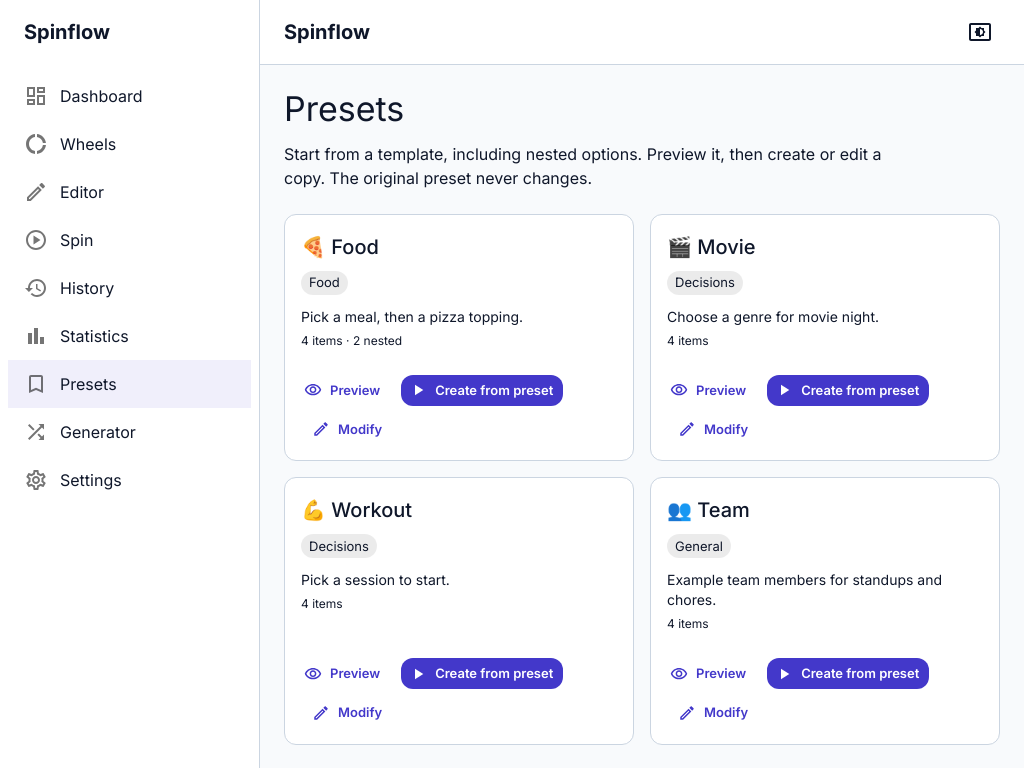
PresetsScreen › lists built-in presets and previews hierarchical food options
The width and height of the screenshot is (1024, 768).
Expected: the heading "Presets" is shown, [284,88,404,129]
Expected: the text "Start from a template, including nested options. Preview it, then create or edit a copy. The original preset never chang" is shown, [284,144,882,188]
Click the button with aria-label "Preview Food". click: point(343, 390)
box: [301,375,385,406]
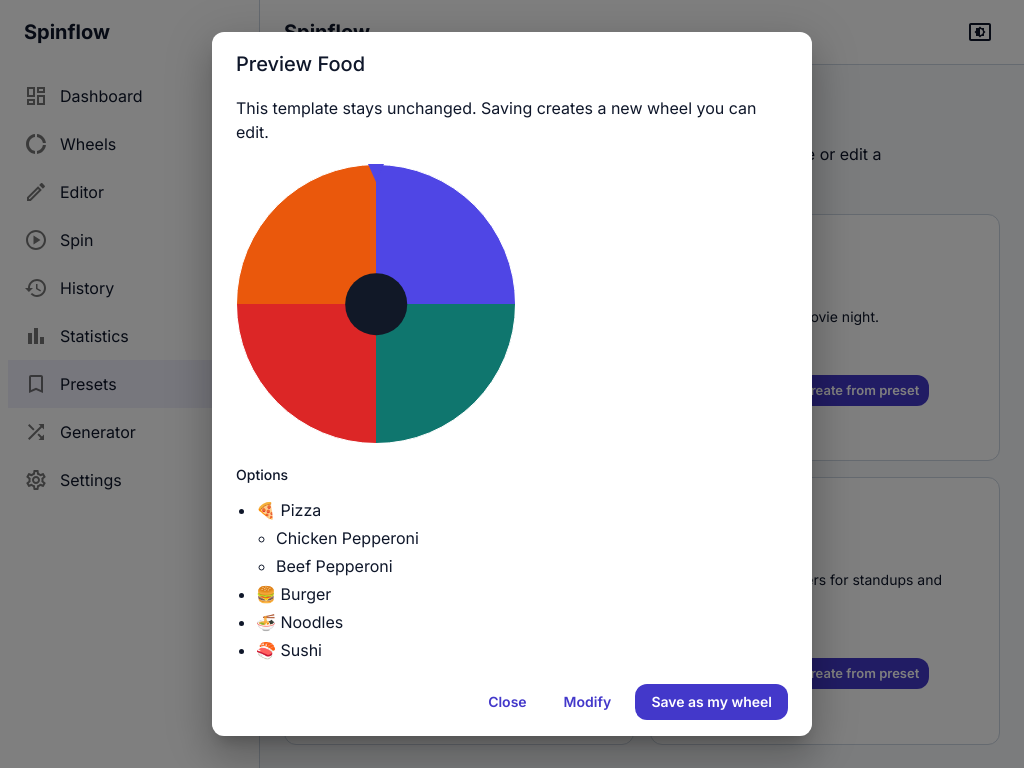
Result: the list item "🍕 Pizza Chicken Pepperoni Beef Pepperoni" is shown at [256,500,419,576]
Result: the list item "Chicken Pepperoni" is shown at [276,528,419,548]
Result: the list item "Beef Pepperoni" is shown at [276,556,393,576]
